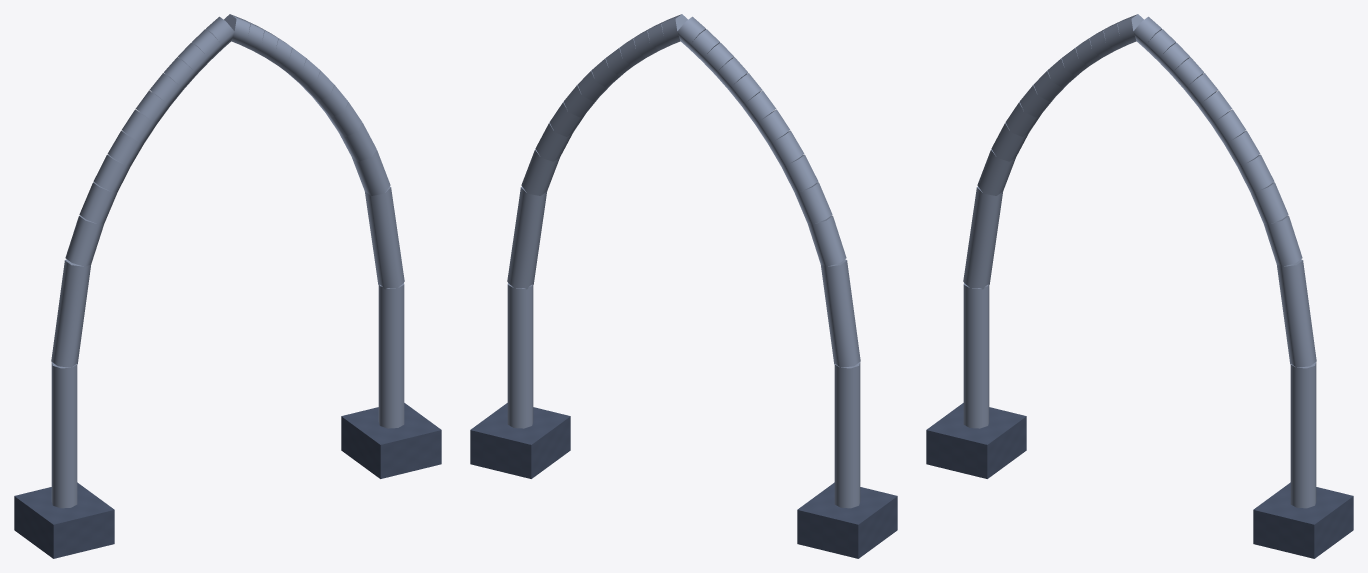
The model's file is detail-arch.glb.
3 views of the same model, side by side, from view 1: azimuth 30°, elevation 25°; view 2: azimuth 150°, elevation 25°; view 3: azimuth 330°, elevation 25° (orthographic).
Visible parts, largest first — view 1: detail-arch_edge, detail-arch_stone; view 2: detail-arch_edge, detail-arch_stone; view 3: detail-arch_edge, detail-arch_stone.
Part boxes in pixels (x1,y1,x2,y2): detail-arch_edge: [51, 14, 404, 508]; detail-arch_stone: [14, 403, 441, 558]; detail-arch_edge: [507, 14, 860, 508]; detail-arch_stone: [470, 403, 897, 558]; detail-arch_edge: [963, 14, 1316, 508]; detail-arch_stone: [926, 403, 1353, 558].
Size of the model in its own units: 2.85 by 3.36 by 0.5.
Materials: 2 (1 with a texture image).
